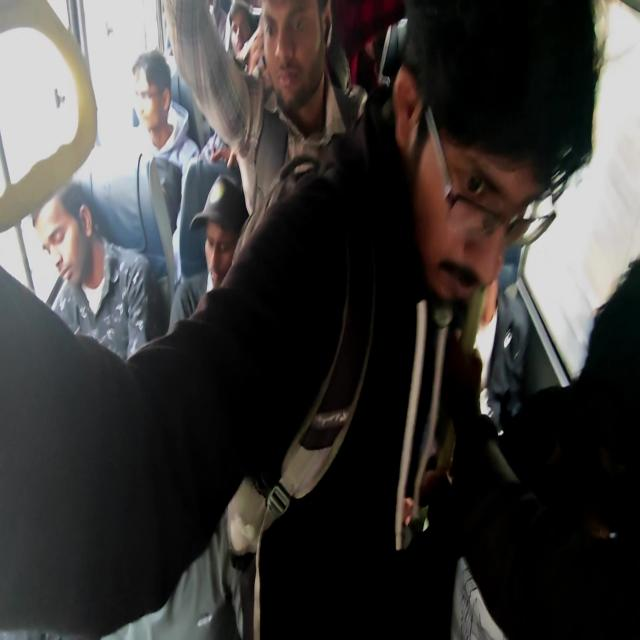person: (404, 30, 579, 331), (592, 306, 640, 627), (30, 193, 99, 284), (126, 59, 187, 150), (258, 2, 323, 84), (194, 204, 241, 256), (226, 19, 254, 63)
